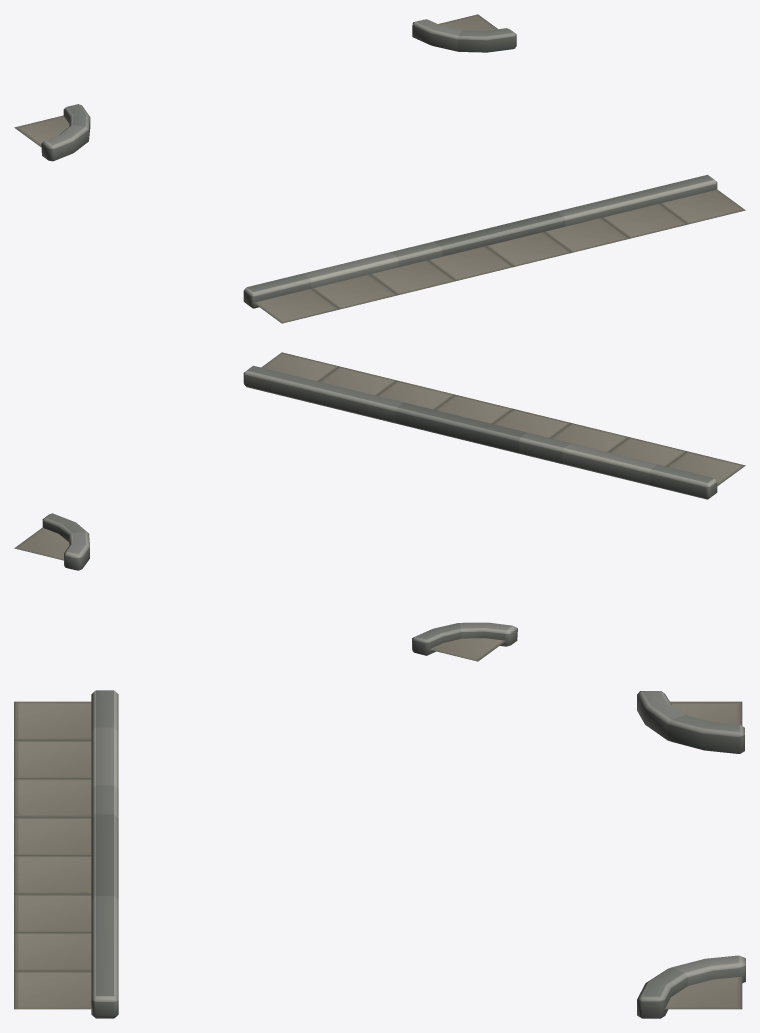
3 renders of one model, top to bottom at view 1: azimuth 30°, elevation 25°; view 2: azimuth 150°, elevation 25°; view 3: azimuth 270°, elevation 25°, orthographic. The views are drawn at different scales.
Parts seen in each view (by area): view 1: road_section_t_section_sidewalk, road_section_t_section; view 2: road_section_t_section, road_section_t_section_sidewalk; view 3: road_section_t_section_sidewalk, road_section_t_section.
Part boxes in pixels (bbox=[...]): road_section_t_section_sidewalk: bbox=[14, 14, 745, 323]; road_section_t_section: bbox=[41, 19, 717, 308]; road_section_t_section: bbox=[42, 365, 717, 655]; road_section_t_section_sidewalk: bbox=[14, 352, 745, 661]; road_section_t_section_sidewalk: bbox=[14, 701, 742, 1009]; road_section_t_section: bbox=[91, 690, 745, 1018].
Bounding box in the file's own units: 16.15 × 0.55 × 16.08.
2 materials, 2 textured.
